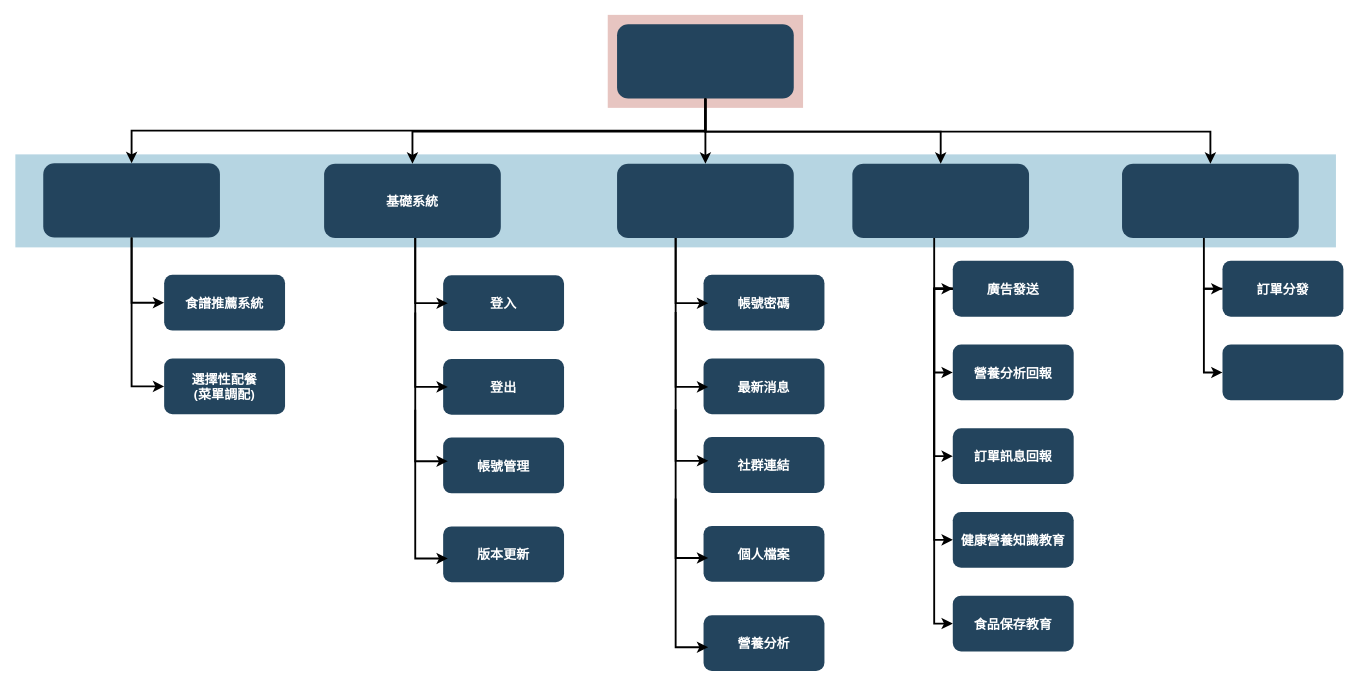
The diagram is 1359 pixels wide and 686 high, and some of its shapes have lost their labels. The shapes that lost their labels are listed below. From the top down, each one's box as (x1, y1, x2, y2) in pixels, then its label:
(617, 24, 793, 98): 飲食健康系統
(43, 163, 219, 237): 購物系統
(617, 163, 793, 238): 使用者資訊管理系統
(852, 163, 1029, 238): Line推廣系統
(1122, 163, 1298, 238): 訂單管理系統
(1222, 344, 1343, 400): 外送指派
